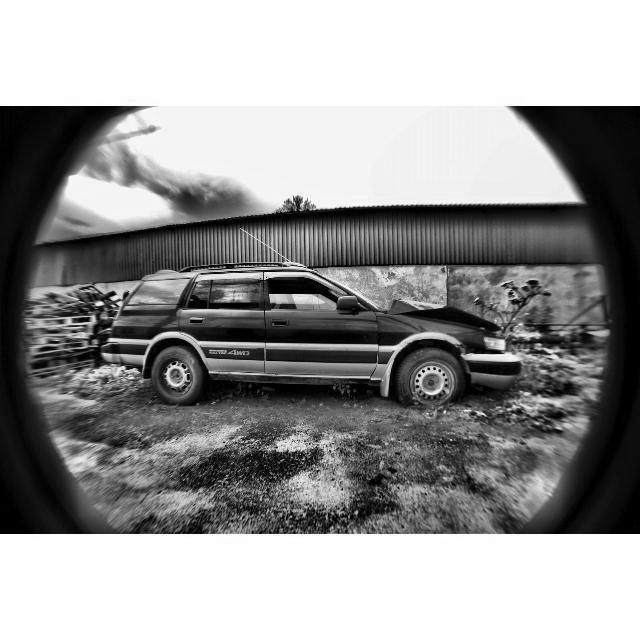Runningboard-Damage: (210, 374, 372, 390)
bonnet-dent: (376, 292, 505, 328)
